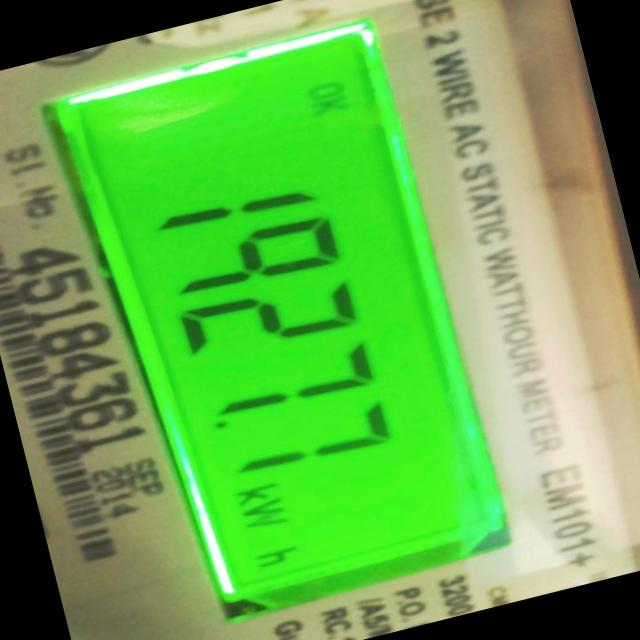LCD: (45, 3, 527, 640)
